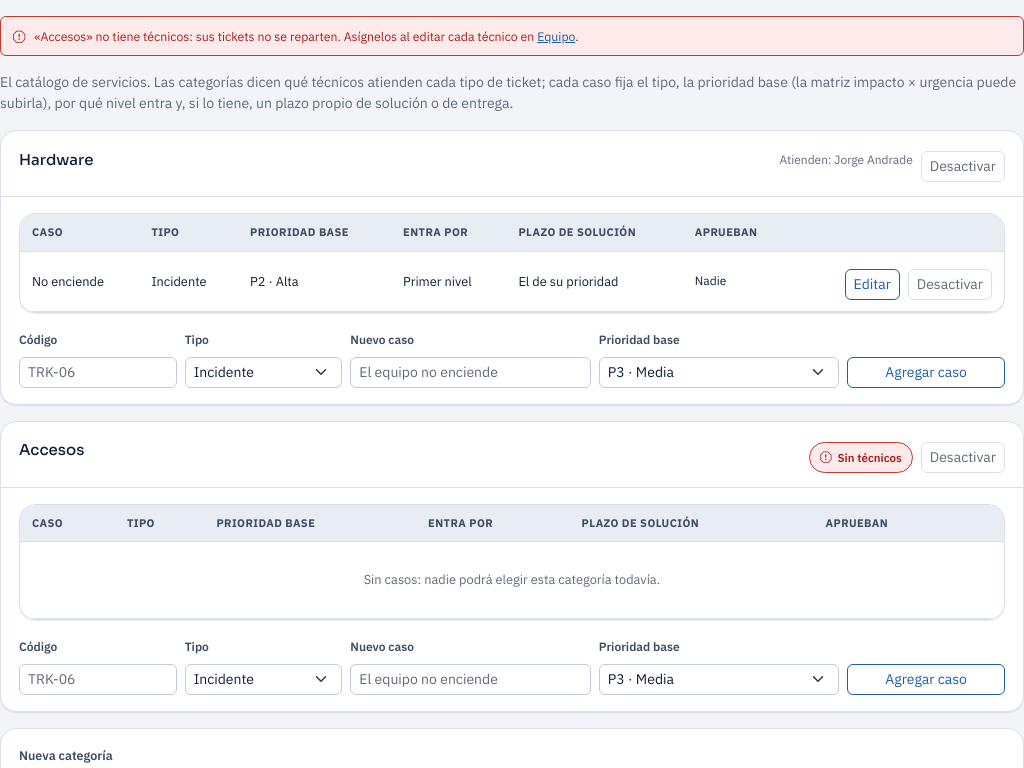
Categorías y casos › un caso se edita en su ventana y se guarda con un botón
The width and height of the screenshot is (1024, 768).
Click the button with aria-label "Editar el caso No enciende" at (872,284), box [845,269,900,300]
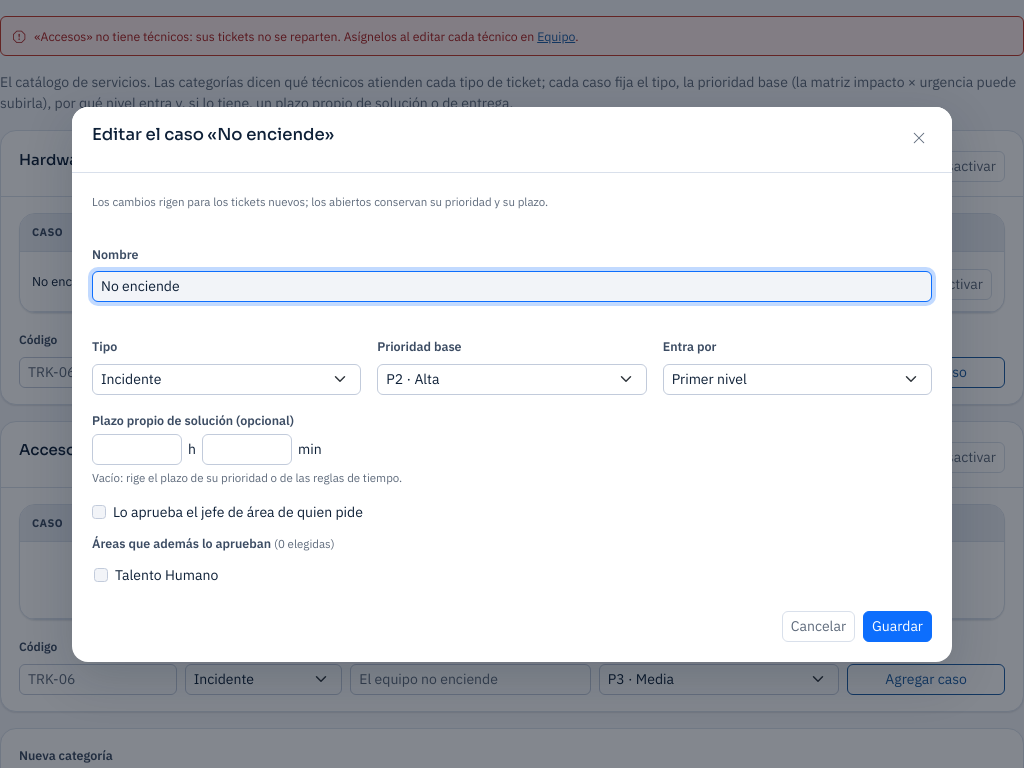
Cambiar un valor no guarda nada todavía.
Select "P1 · Crítica" in the dropdown labelled "Prioridad base" at (512,379), box [377,364,647,395]
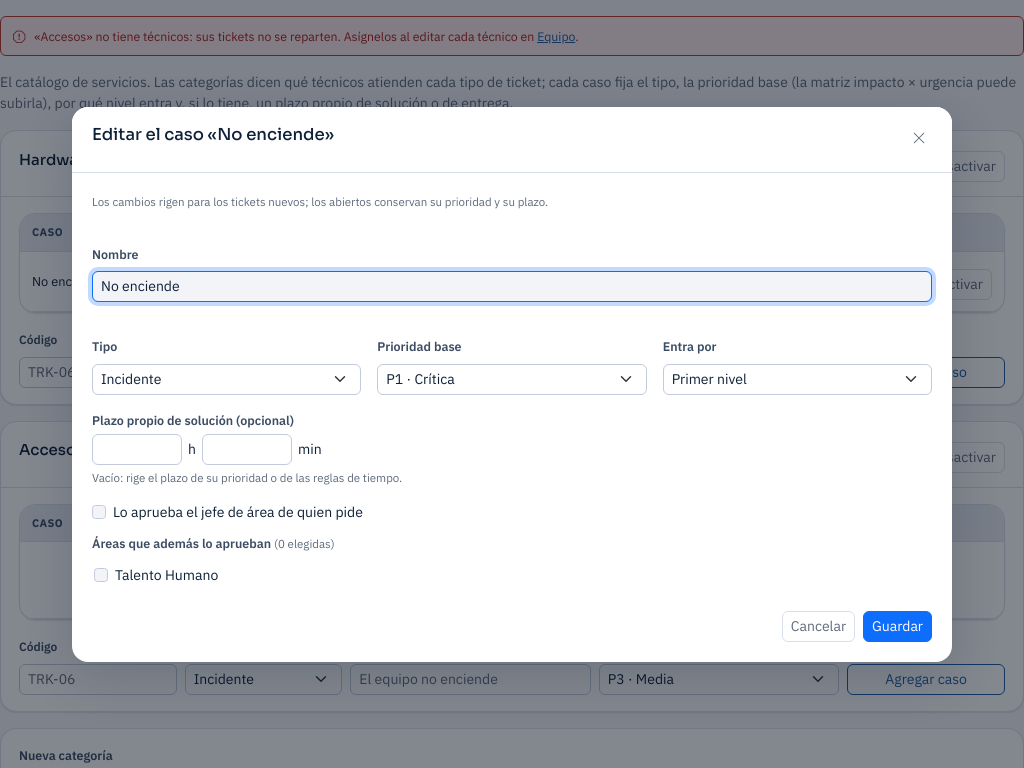
Type "1" into the 1st number field named "Horas" at (137,449), box [92,434,182,464]
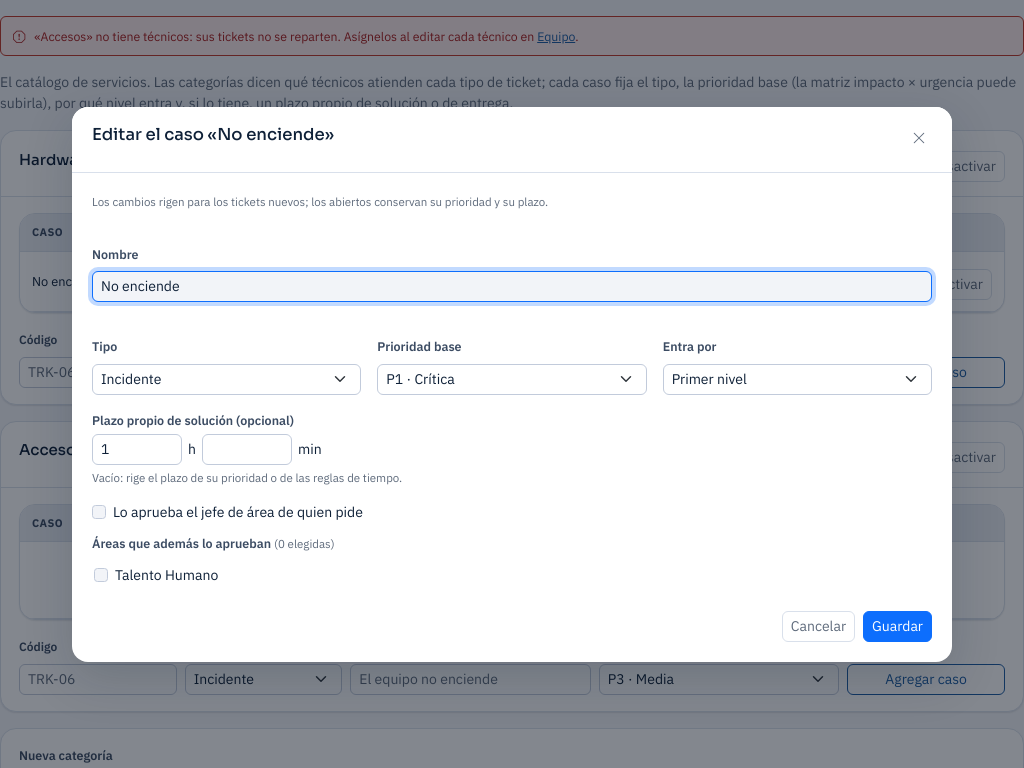
Type "30" into the 2nd number field named "Minutos" at (247,449), box [202,434,292,464]
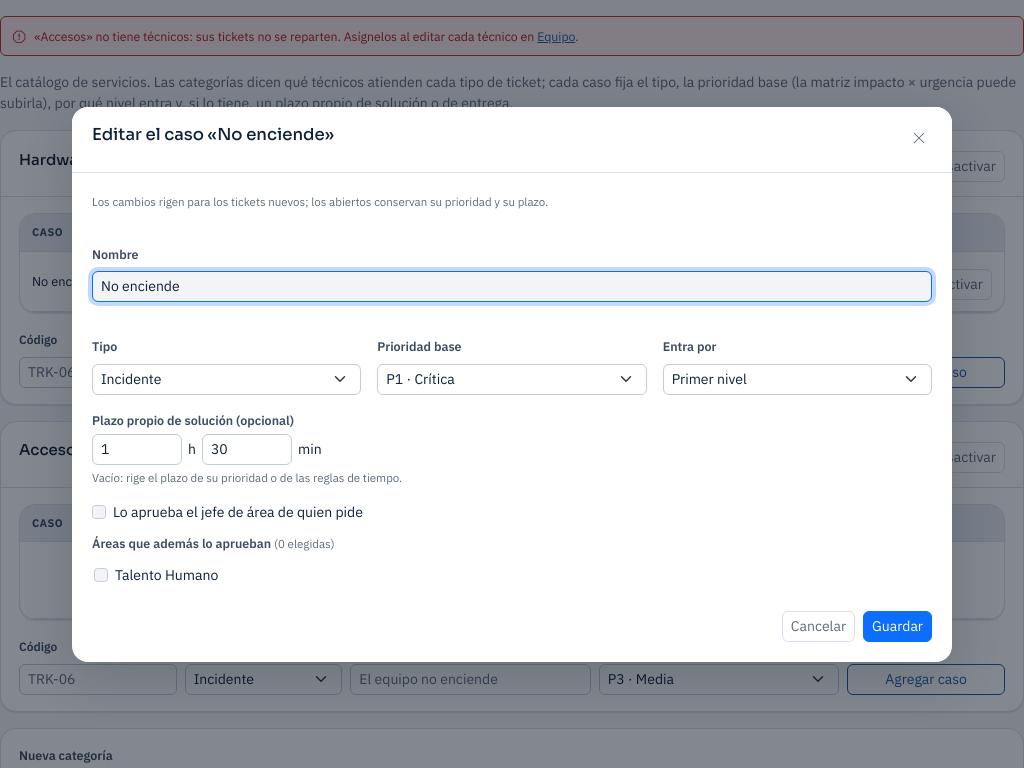
Click the checkbox labelled "Talento Humano" at (101,575), box [94,568,108,582]
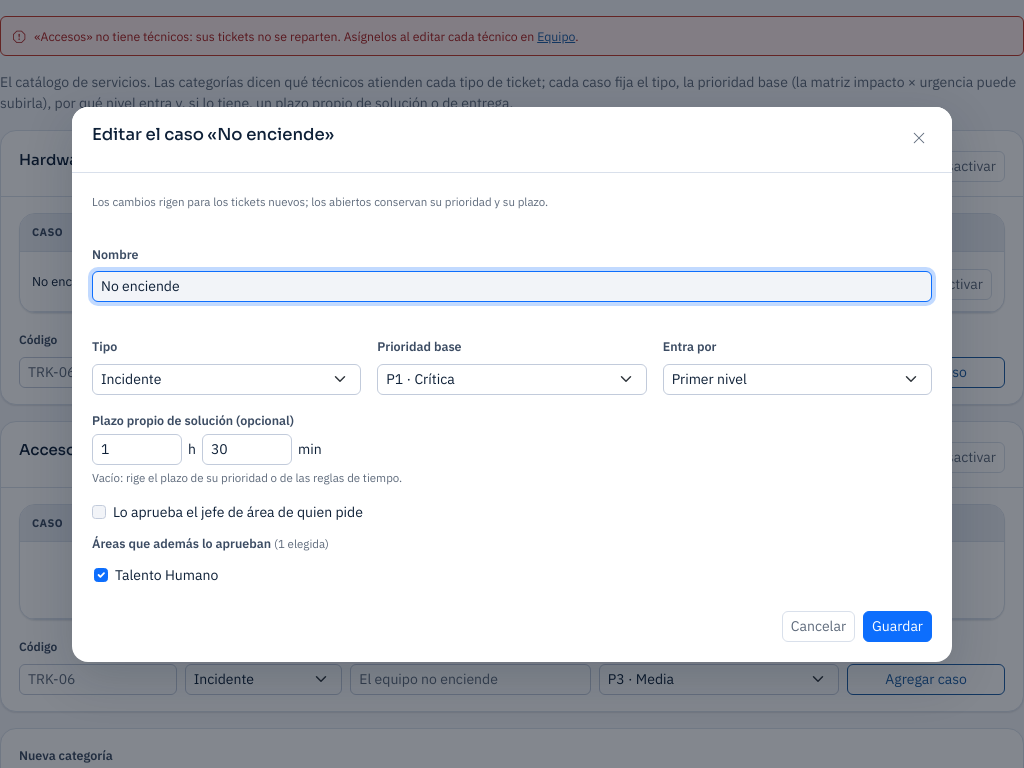
Click the button "Guardar" at (898,626), box [863,610,932,642]
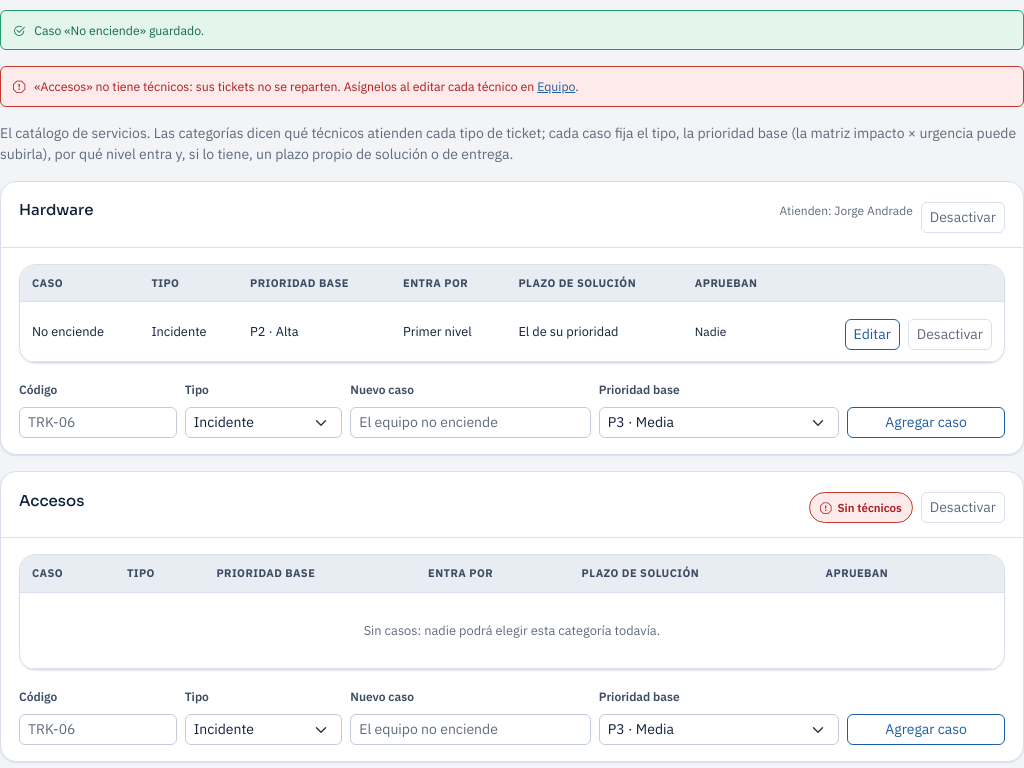
Now the text "Caso «No enciende» guardado." is shown, box [0,10,1023,50]
